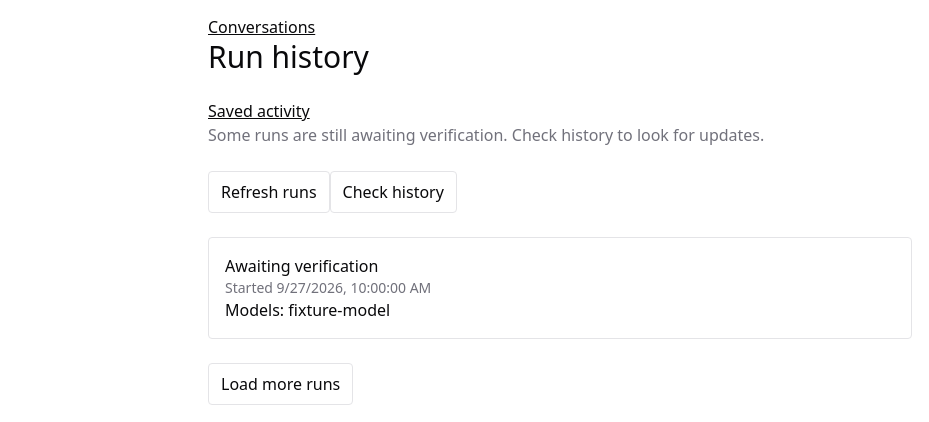
Test case: clears run metadata on account change and ignores a delayed page
Expected: the text "Models: fixture-model" is shown, x1=225 y1=299 x2=390 y2=321
Click the button "Load more runs" at [281, 384], box x1=208 y1=363 x2=353 y2=405
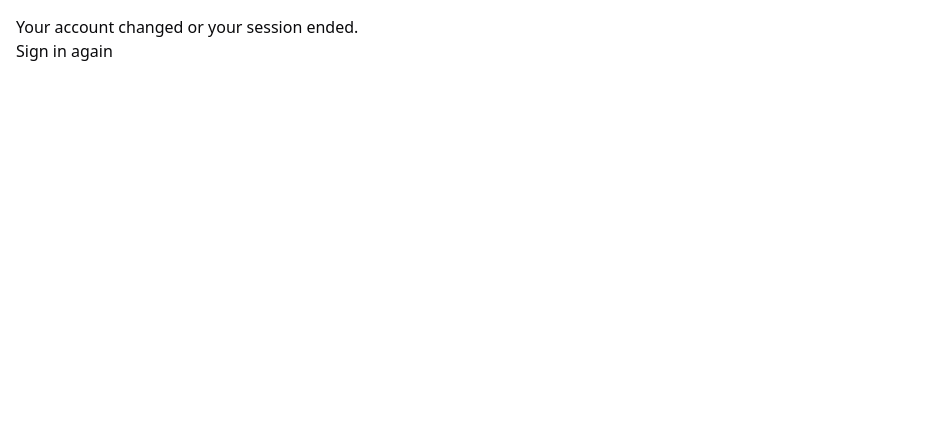
Result: the text "Models: fixture-model" is gone
Result: the message shows "Your account changed" at x1=16 y1=16 x2=358 y2=38
